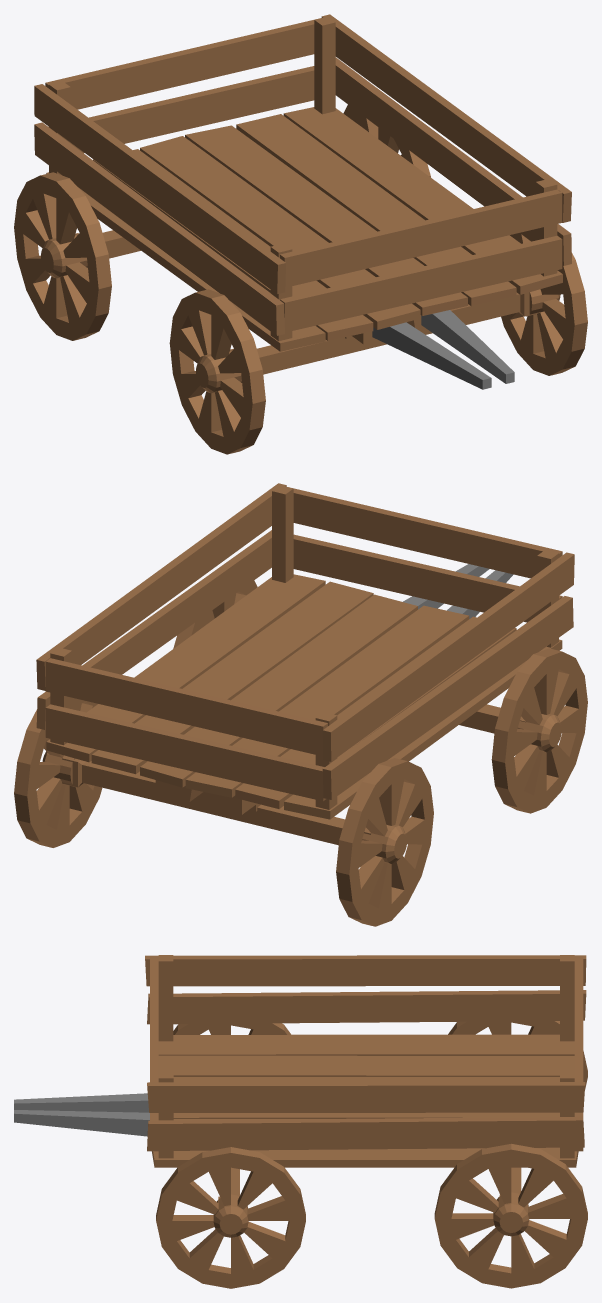
File: Carroca.gltf
3 renders of one model, top to bottom at view 1: azimuth 30°, elevation 25°; view 2: azimuth 150°, elevation 25°; view 3: azimuth 270°, elevation 25°, orthographic. The views are drawn at different scales.
Parts seen in each view (by area): view 1: Plano; view 2: Plano; view 3: Plano.
Boxes of the visible parts, x1=… form: Plano: x1=14, y1=14, x2=587, y2=454; Plano: x1=14, y1=483, x2=587, y2=926; Plano: x1=14, y1=955, x2=587, y2=1288.
Bounding box in the file's own units: 1.73 × 1.03 × 2.7.
